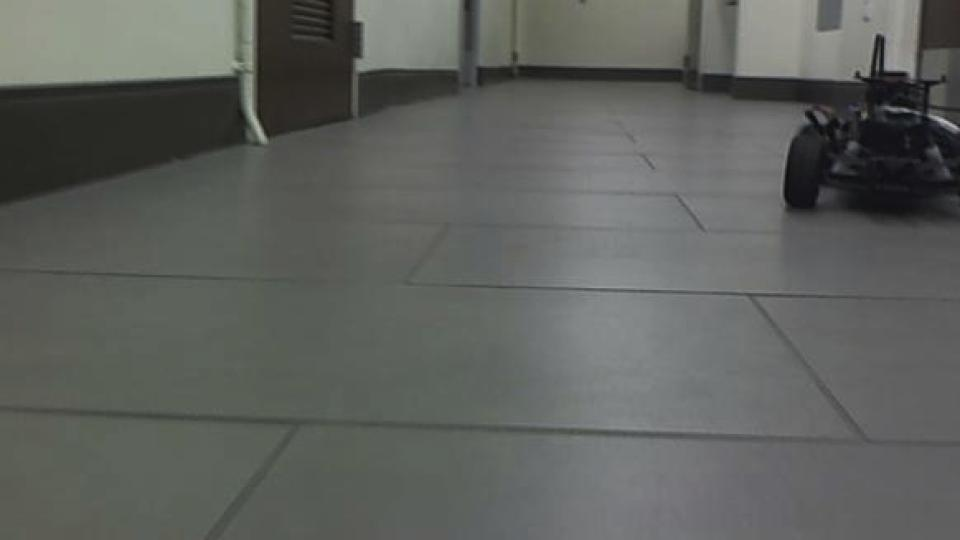car: (778, 31, 960, 225)
